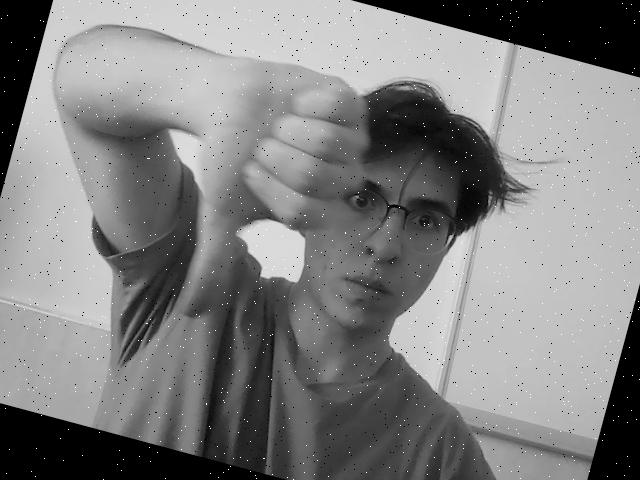bad: (138, 36, 374, 327)
